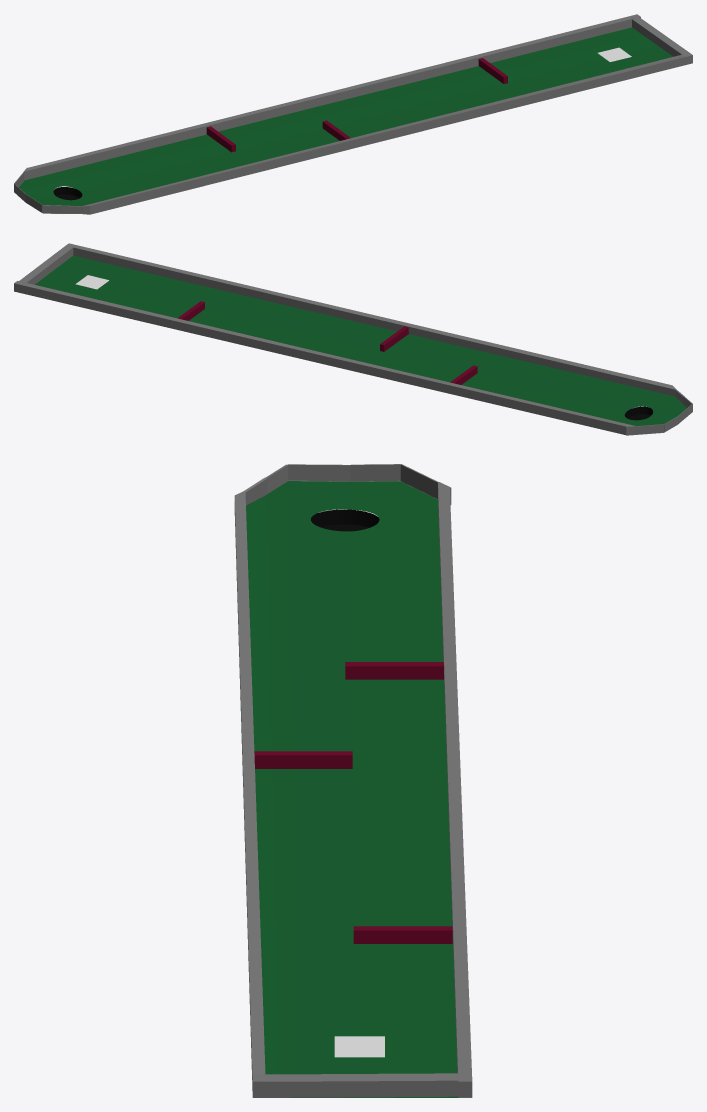
Rendered from piste1.fbx.
The picture shows the model from 3 angles, top to bottom: view 1: azimuth 30°, elevation 25°; view 2: azimuth 150°, elevation 25°; view 3: azimuth 270°, elevation 25°; orthographic projection. The views are drawn at different scales.
Visible parts, largest first — view 1: Plane, Cube.002, Cube; view 2: Plane, Cylinder, Cube.001; view 3: Plane, Cube.002, Cube, Cube.001, Cylinder, Plane.001.
Part boxes in pixels (x1,y1,x2,y2): Plane: [14, 14, 692, 214]; Cube.002: [478, 58, 507, 83]; Cube: [206, 126, 235, 152]; Plane: [14, 243, 692, 435]; Cylinder: [624, 406, 652, 420]; Cube.001: [380, 326, 408, 351]; Plane: [234, 464, 472, 1097]; Cube.002: [353, 926, 452, 943]; Cube: [345, 662, 443, 679]; Cube.001: [254, 751, 352, 768]; Cylinder: [311, 509, 379, 531]; Plane.001: [334, 1036, 384, 1057].
Size of the model in its own units: 515 by 13.57 by 83.66.
